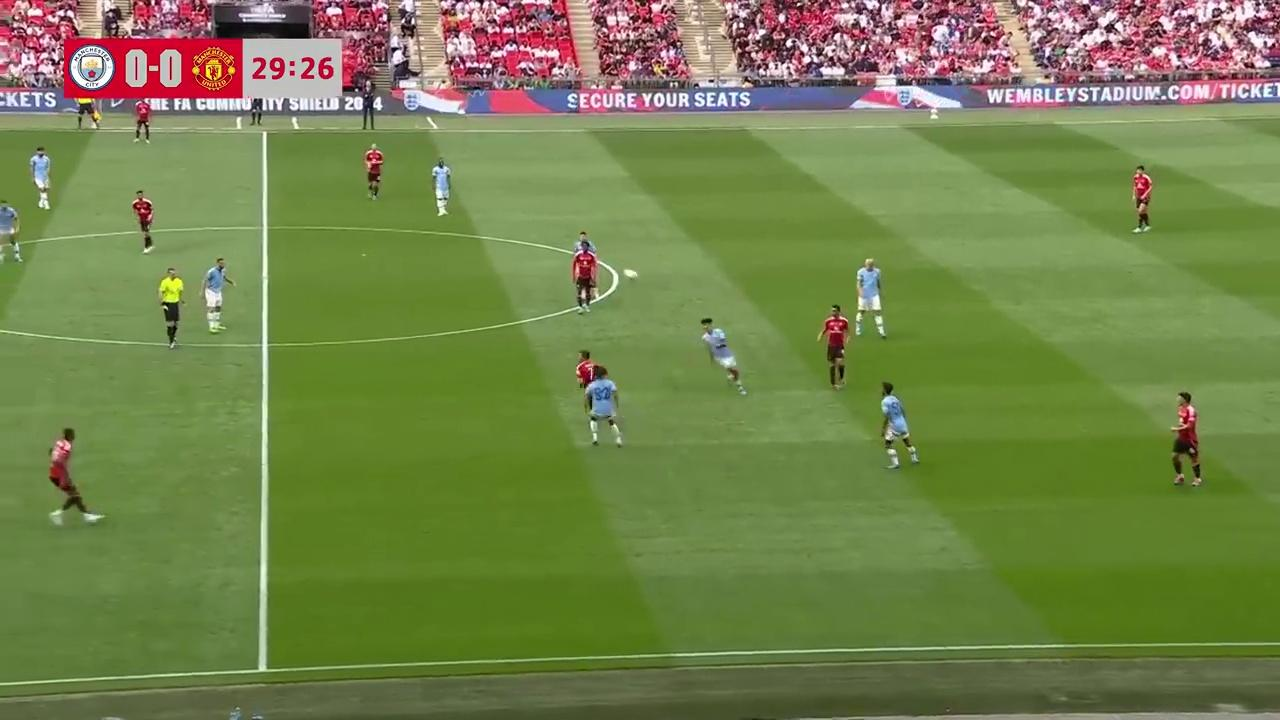ball: (622, 268, 640, 284)
player: (47, 426, 103, 527), (578, 360, 624, 448), (879, 381, 920, 468), (700, 318, 746, 395), (1169, 391, 1201, 487), (816, 304, 850, 389), (200, 256, 235, 332), (855, 257, 887, 340), (571, 243, 598, 317), (0, 199, 23, 264), (131, 189, 154, 253), (29, 146, 51, 210), (1131, 166, 1152, 233), (572, 228, 597, 278), (431, 157, 451, 216), (363, 144, 384, 200), (132, 97, 152, 143)
referee: (157, 265, 185, 350), (75, 90, 101, 131)
